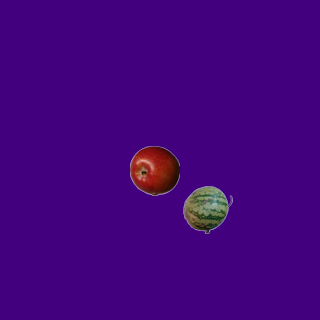Apple Braeburn: (129, 145, 179, 195)
Watermelon: (182, 184, 232, 234)
